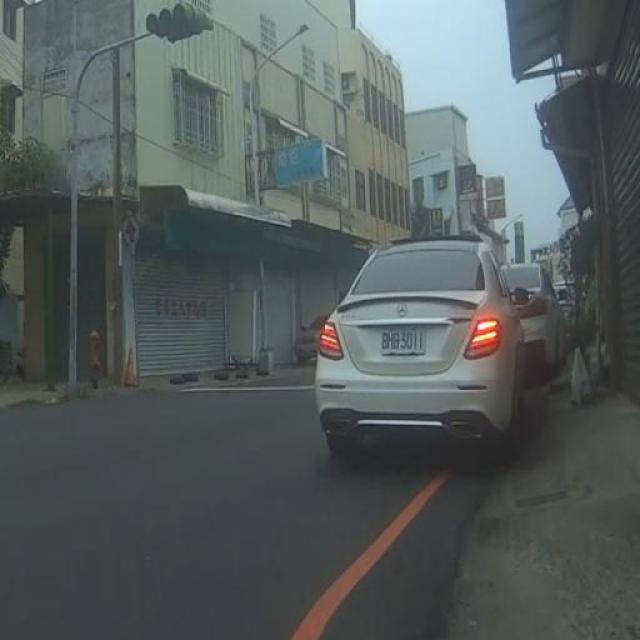illegalparking: (318, 235, 565, 454)
